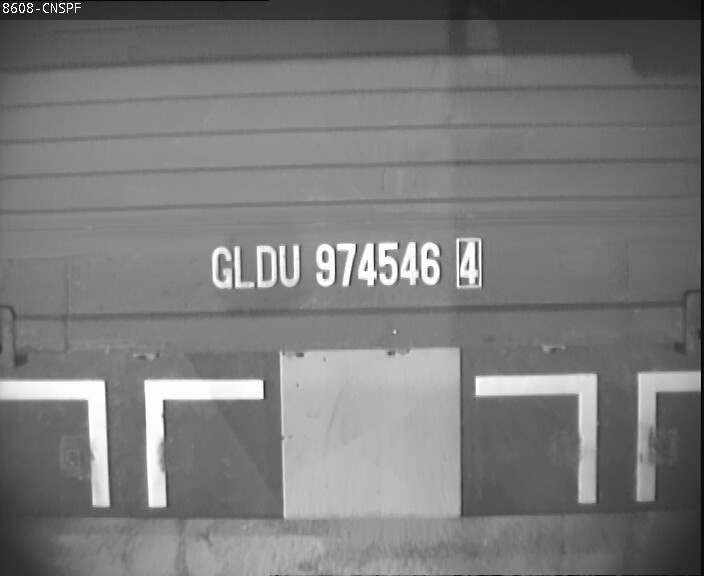groundmarker_1: (1, 376, 261, 506), (478, 373, 698, 494)
